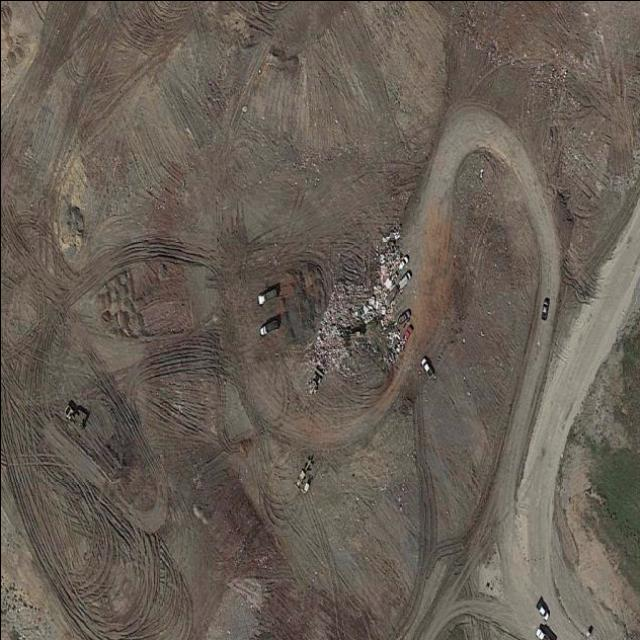dump_site: (302, 252, 388, 393)
